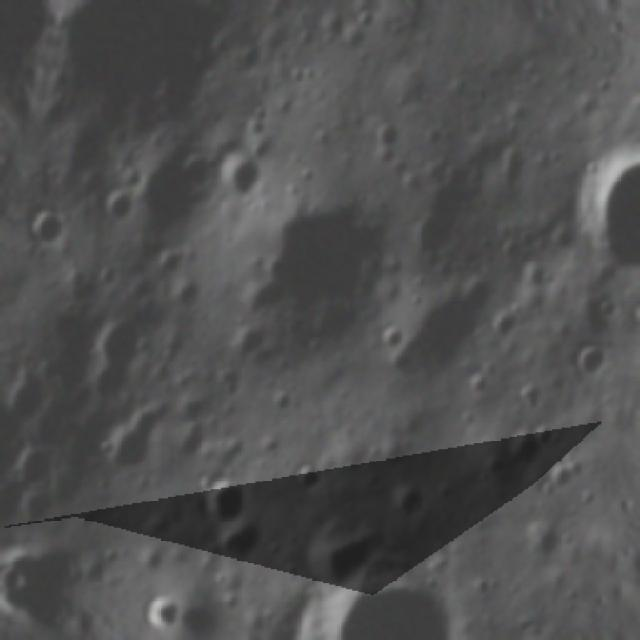crater: (41, 0, 236, 134), (240, 181, 402, 341), (282, 544, 476, 640), (560, 128, 640, 292), (70, 298, 168, 416), (84, 405, 171, 490), (0, 356, 68, 439), (181, 462, 257, 530), (5, 436, 66, 498), (499, 412, 556, 477), (214, 147, 272, 207), (17, 201, 74, 253), (564, 334, 614, 392), (89, 179, 142, 232), (280, 454, 328, 504), (165, 268, 209, 314), (139, 586, 193, 619), (230, 37, 272, 78), (370, 116, 410, 152), (0, 326, 12, 412), (0, 558, 32, 584), (508, 638, 560, 640)
